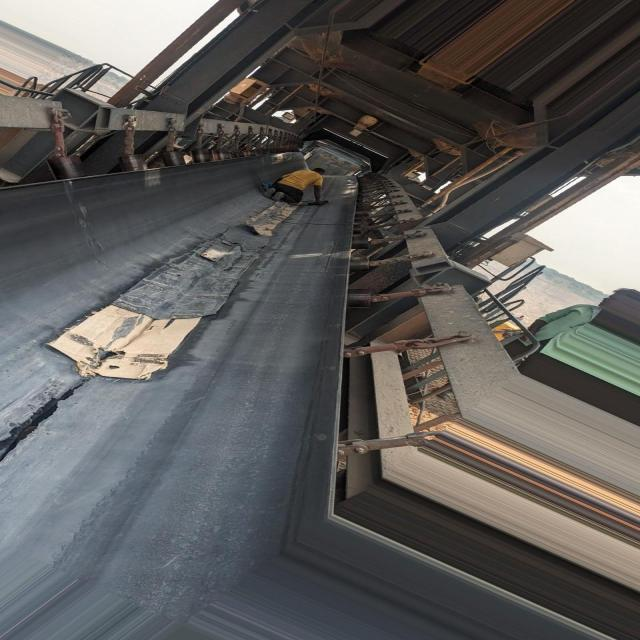Human: (262, 167, 326, 206)
Roller: (47, 146, 286, 181), (346, 186, 372, 309)
Tear: (0, 389, 75, 464)
patch work: (49, 223, 271, 381)
